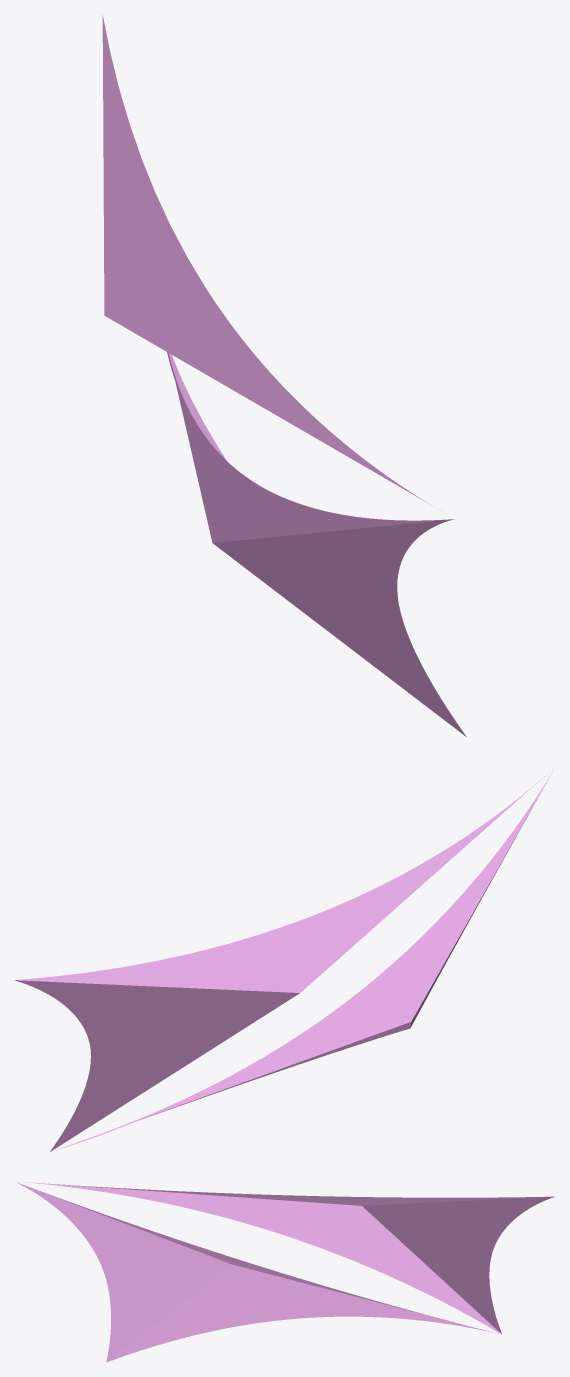
File: TYPE2-1.glb
3 renders of one model, top to bottom at view 1: azimuth 30°, elevation 25°; view 2: azimuth 150°, elevation 25°; view 3: azimuth 270°, elevation 25°, orthographic. The views are drawn at different scales.
Parts seen in each view (by area): view 1: TYPE2-1 (×3); view 2: TYPE2-1 (×4); view 3: TYPE2-1 (×6).
Part boxes in pixels (x1,y1,x2,y2): TYPE2-1 (×3): (102,15,466,736); TYPE2-1 (×4): (15,769,553,1151); TYPE2-1 (×6): (16,1181,554,1362).
Bounding box in the file's own units: 2.54 × 4.13 × 10.85.
